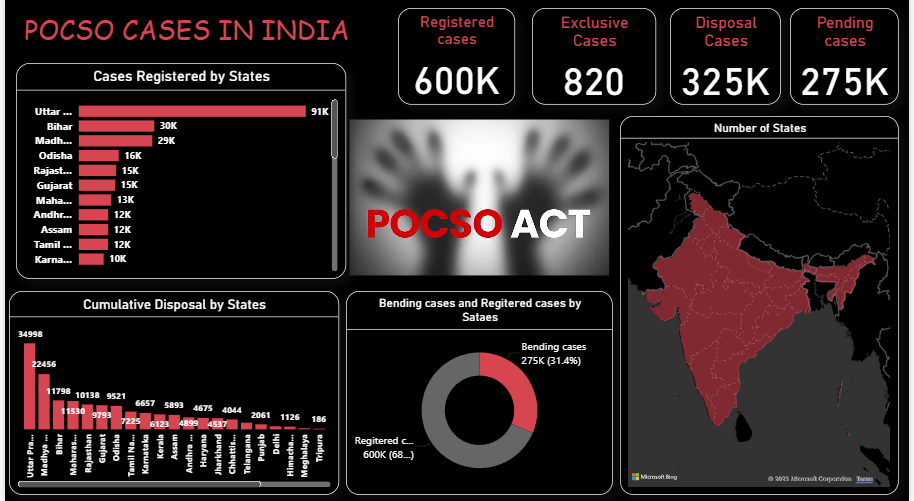

Layout of this report page (visuals, bound fields, positions):
{"tool":"powerbi","page":{"name":"Page 1","canvas":[1280,720],"ordinal":0},"visuals":[{"type":"filledMap","title":"Number of  States","fields":{"Category":["RS_Session_265_AU_422_A_to_C_i.State/UT"],"Series":["RS_Session_265_AU_422_A_to_C_i.Sl.No."]},"box":[871.7,172.9,395.4,537.2],"z":0},{"type":"image","box":[483.3,172.9,378.4,231],"z":1000},{"type":"clusteredBarChart","title":" Cases Registered by States","fields":{"Category":["RS_Session_265_AU_422_A_to_C_i.State/UT"],"Y":["aMesure.Total Regiter cades"]},"box":[15.6,97.8,467.7,306.1],"z":2000},{"type":"clusteredColumnChart","title":" Cumulative Disposal by States","fields":{"Category":["RS_Session_265_AU_422_A_to_C_i.State/UT"],"Y":["Sum(RS_Session_265_AU_422_A_to_C_i.Cumulative Disposal by exclusive POCSO Courts since 2019 till 31-05-2024)"]},"box":[5.7,420.9,467.7,289.1],"z":3000},{"type":"card","title":"Registered cases","fields":{"Values":["aMesure.Total Regiter cades"]},"box":[557,19.8,165.8,137.5],"z":4000},{"type":"card","title":"Disposal Cases","fields":{"Values":["aMesure.Total disposal cases"]},"box":[942.5,19.8,157.3,137.5],"z":5000},{"type":"card","title":"Pending cases ","fields":{"Values":["aMesure.Bending cases"]},"box":[1112.6,19.8,154.5,137.5],"z":6000},{"type":"donutChart","title":"Bending cases and Regitered cases by Sataes","fields":{"Y":["aMesure.Bending cases","aMesure.Total Regiter cades"]},"box":[483.3,420.9,378.4,289.1],"z":7000},{"type":"card","title":"Exclusive Cases","fields":{"Values":["aMesure.Exclusive Cases"]},"box":[746.9,19.8,175.7,137.5],"z":8000},{"type":"textbox","box":[22.7,19.8,520.2,69.4],"z":9000}]}

Visuals, with their boxes in screenshot pixels (x1, y1, x2, y2), scaled from the page's 1280x720 canvas onto the 914x501 screenshot:
"Number of  States" filledMap: <box>622,120,905,494</box>
image: <box>345,120,615,281</box>
" Cases Registered by States" clusteredBarChart: <box>11,68,345,281</box>
" Cumulative Disposal by States" clusteredColumnChart: <box>4,293,338,494</box>
"Registered cases" card: <box>398,14,516,109</box>
"Disposal Cases" card: <box>673,14,785,109</box>
"Pending cases " card: <box>794,14,905,109</box>
"Bending cases and Regitered cases by Sataes" donutChart: <box>345,293,615,494</box>
"Exclusive Cases" card: <box>533,14,659,109</box>
textbox: <box>16,14,388,62</box>
